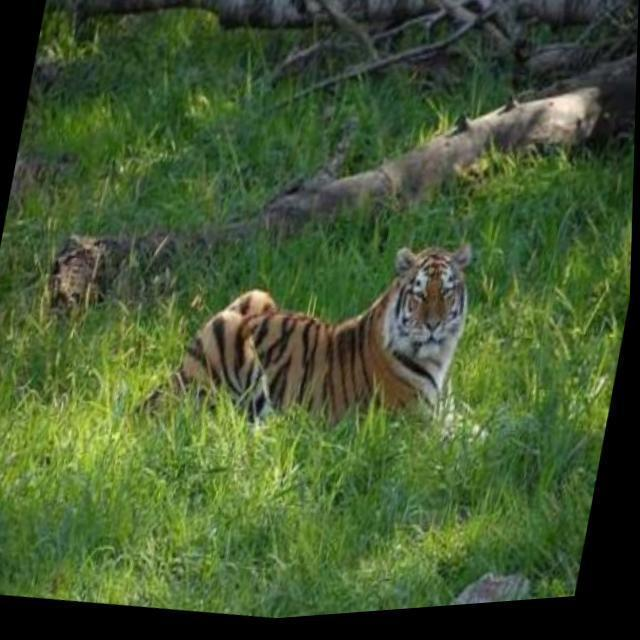tiger: (45, 55, 630, 328), (135, 241, 483, 442), (67, 0, 637, 33)
